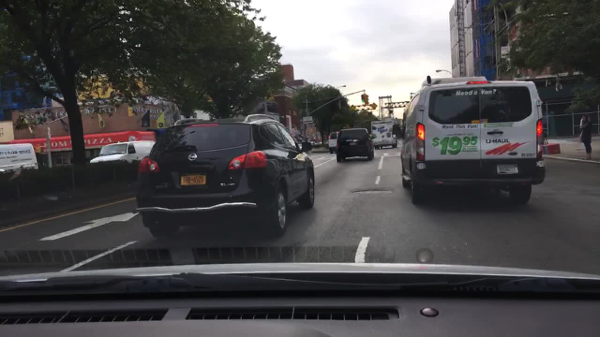car: (132, 114, 316, 242), (390, 74, 547, 208), (88, 140, 158, 166), (334, 126, 375, 165), (0, 142, 41, 178), (326, 129, 343, 155), (295, 140, 308, 154), (305, 140, 319, 146), (316, 140, 328, 146)
person: (577, 113, 594, 162)
traffic light: (364, 92, 371, 105), (361, 94, 365, 106)
traffic sign: (498, 45, 510, 59), (369, 101, 378, 111), (301, 116, 313, 123), (349, 104, 357, 112)
truck: (368, 118, 397, 151)
